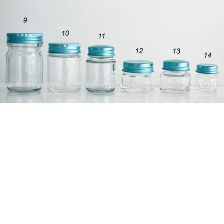bottle: (2, 30, 44, 94), (44, 40, 83, 95), (83, 43, 118, 95), (120, 57, 157, 93), (159, 58, 194, 95), (193, 60, 221, 96)
